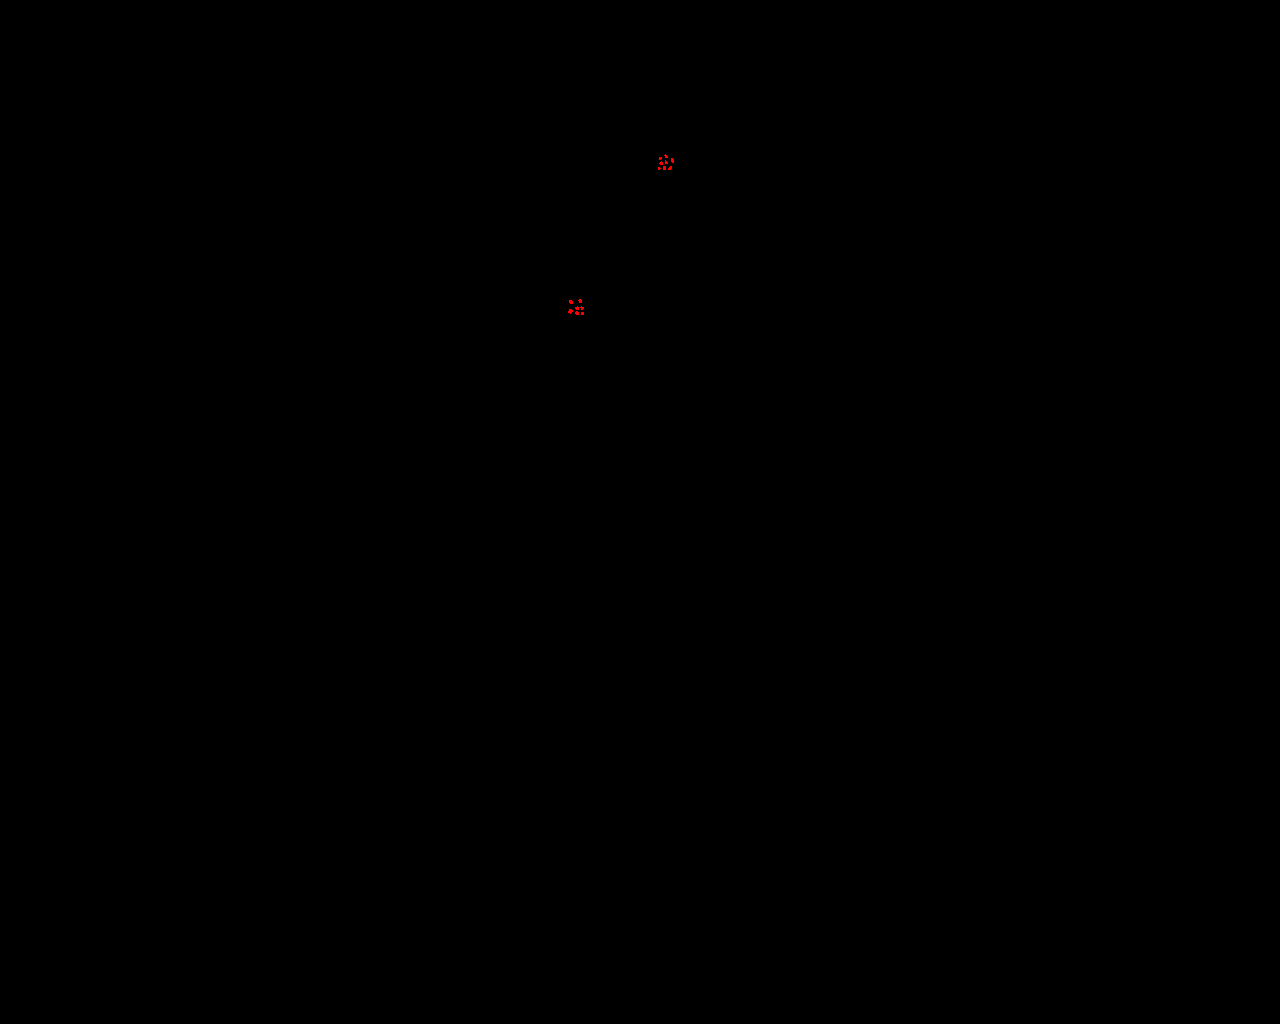Target: (568, 309, 573, 315), (664, 154, 668, 158), (659, 161, 664, 165), (668, 166, 672, 170), (578, 299, 582, 303), (575, 306, 579, 310), (580, 306, 584, 310), (671, 158, 674, 163), (665, 160, 668, 164), (569, 300, 573, 304), (575, 311, 579, 315), (659, 157, 662, 160), (658, 167, 661, 170), (664, 166, 666, 170), (581, 312, 584, 315)
